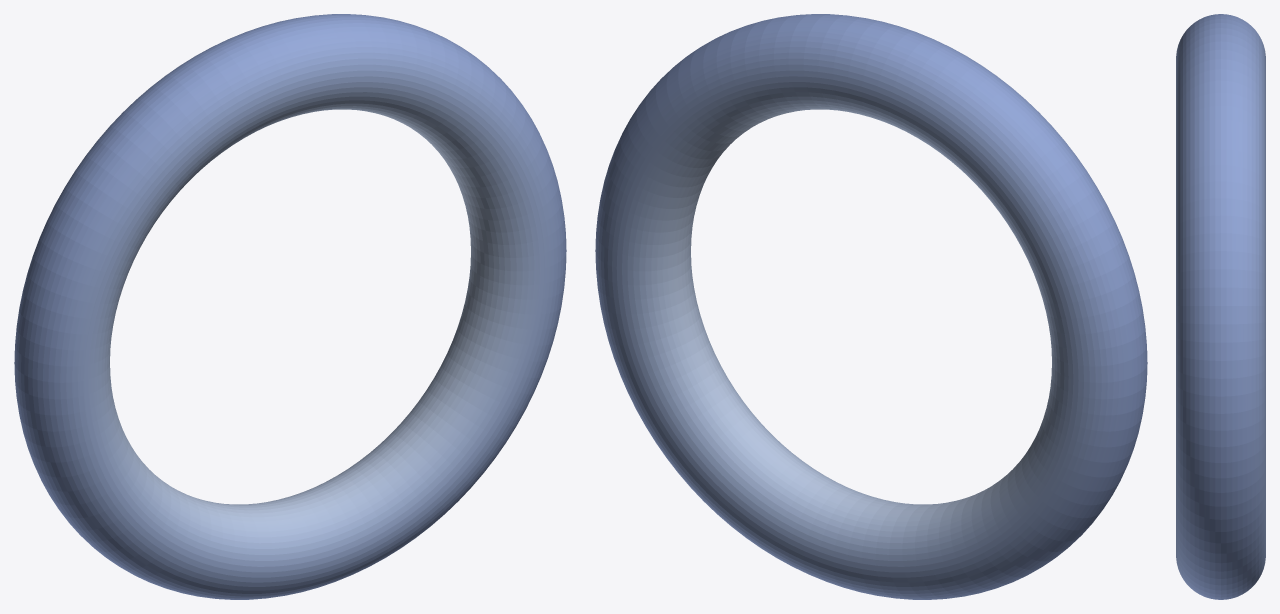
3 views of the same model, side by side, from view 1: azimuth 30°, elevation 25°; view 2: azimuth 150°, elevation 25°; view 3: azimuth 270°, elevation 25° (orthographic). The views are drawn at different scales.
Parts seen in each view (by area): view 1: world; view 2: world; view 3: world.
Boxes of the visible parts, x1,y1,x2,y2 form: world: [14, 14, 566, 599]; world: [595, 14, 1147, 599]; world: [1176, 14, 1265, 599].
Bounding box in the file's own units: 25.2 × 25.2 × 3.86.
